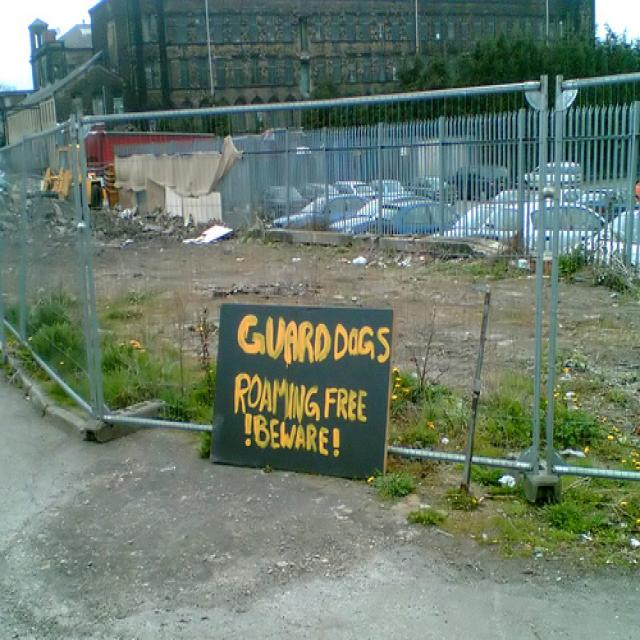Vehicle: (523, 198, 607, 251), (351, 196, 461, 234), (581, 206, 640, 266), (272, 195, 370, 229), (444, 204, 520, 242), (326, 198, 391, 232), (256, 184, 312, 220), (525, 162, 581, 188), (416, 175, 458, 205), (577, 188, 617, 215), (302, 182, 343, 202), (334, 181, 376, 194), (372, 180, 404, 197)
